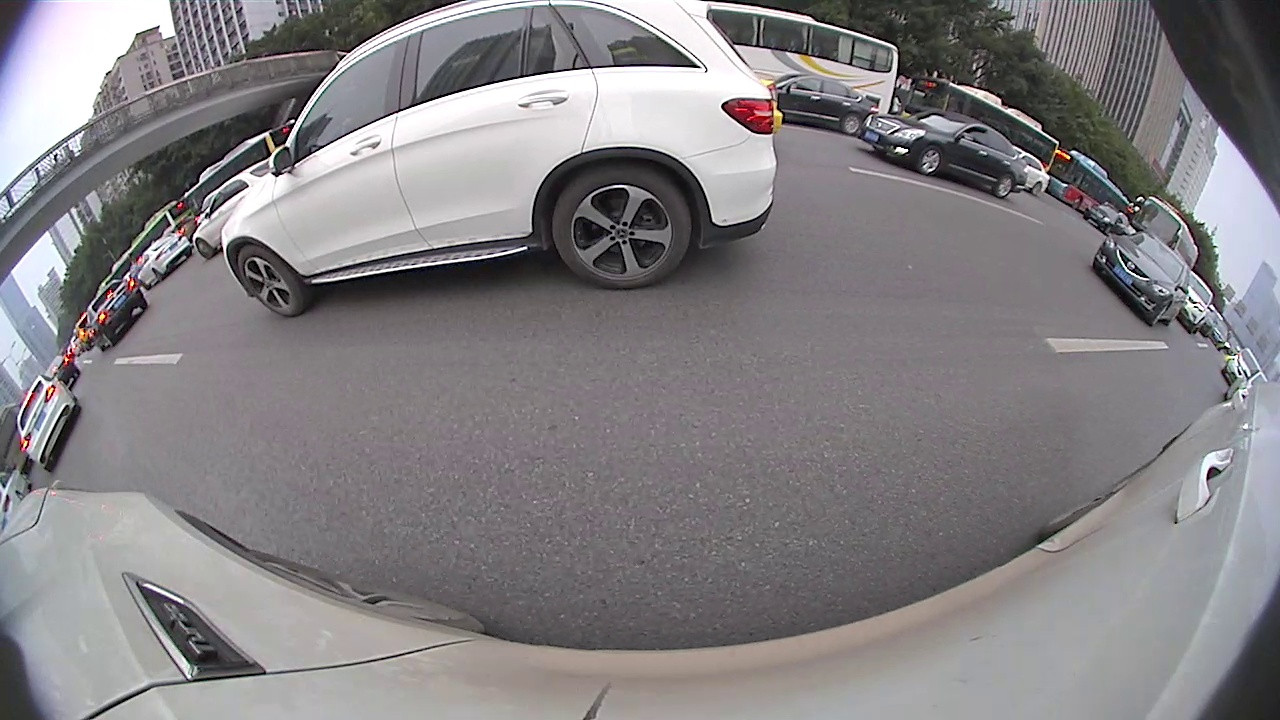bus: (690, 4, 901, 122), (904, 74, 1061, 176), (1044, 144, 1133, 229), (1128, 195, 1201, 273)
car: (225, 1, 782, 319), (860, 105, 1028, 200), (1091, 223, 1189, 330), (190, 163, 288, 259), (762, 69, 879, 135), (14, 370, 82, 469), (82, 278, 152, 349), (135, 234, 197, 288)
front: (236, 245, 303, 318), (917, 146, 941, 176)
rear: (553, 168, 690, 289), (996, 176, 1014, 199), (841, 115, 860, 135)
